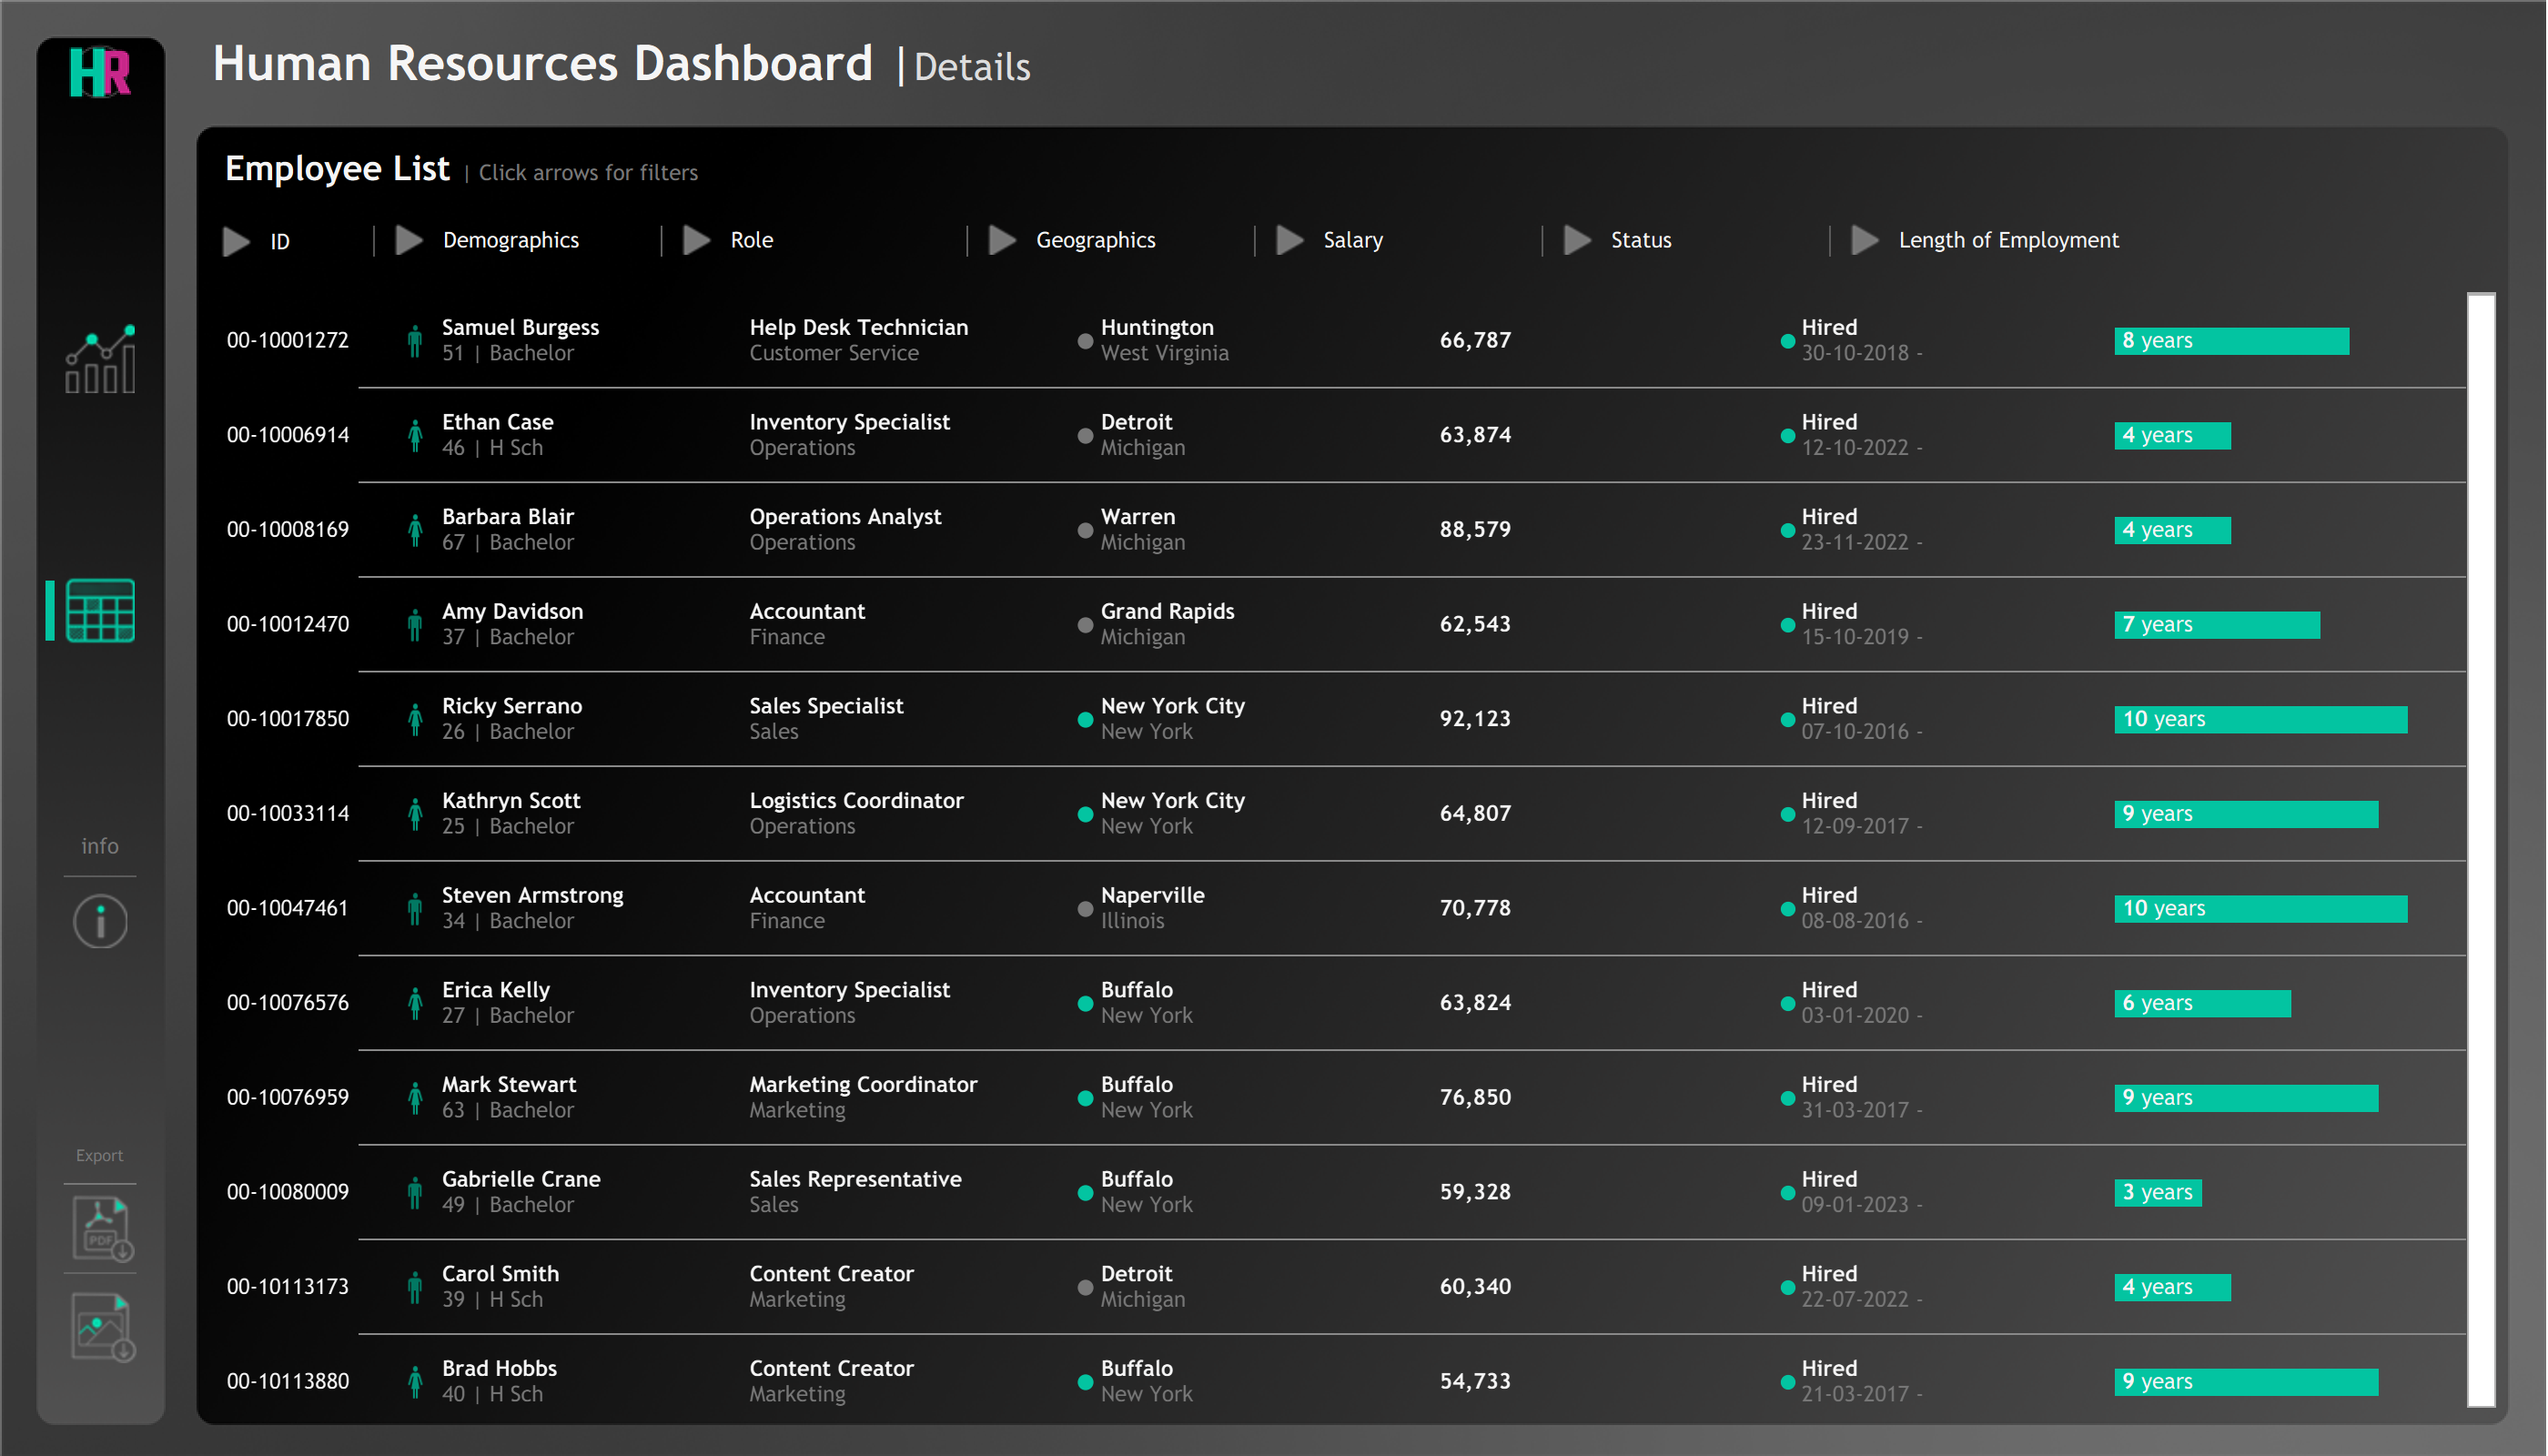

This screenshot's page, from the dashboard's own definition file:
{"tool":"tableau","page":{"name":"HR | Details","canvas":[1400,800],"ordinal":0},"visuals":[{"type":"image","param":"Image/background dashbaord details.png","box":[0,0,1400,800]},{"type":"text","box":[110,0,673,70]},{"type":"blank","box":[783,0,597,70]},{"type":"text","box":[92,13,1298,218]},{"type":"image","param":"Image/Logo.png","box":[20,20,70,38]},{"type":"blank","box":[20,58,70,110]},{"type":"text","box":[117,77,1256,37]},{"type":"dashboard-object","box":[117,114,25,37]},{"type":"text","box":[142,114,57,37]},{"type":"blank","box":[199,114,13,228]},{"type":"dashboard-object","box":[212,114,25,36]},{"type":"text","box":[237,114,120,36]},{"type":"blank","box":[357,114,13,228]},{"type":"dashboard-object","box":[370,114,25,36]},{"type":"text","box":[395,114,126,36]},{"type":"blank","box":[525,114,13,228]},{"type":"dashboard-object","box":[538,114,25,36]},{"type":"text","box":[563,114,120,36]},{"type":"blank","box":[683,114,13,228]},{"type":"dashboard-object","box":[696,114,25,36]},{"type":"text","box":[720.9,114,120,36]},{"type":"blank","box":[841,114,13,228]},{"type":"dashboard-object","box":[853.9,114,25,36]},{"type":"text","box":[878.9,114,120,36]},{"type":"blank","box":[998.9,114,13,228]},{"type":"dashboard-object","box":[1011.9,114,25,36]},{"type":"text","box":[1036.9,114,336.1,36]},{"type":"filter","title":"Details","param":"[federated.1ru0z8r0nqcx4818v7od20hwav44].[none:Calculation_0846406147260418:nk]","box":[212,150,145,48]},{"type":"filter","title":"Details","param":"[federated.1ru0z8r0nqcx4818v7od20hwav44].[none:Job Title:nk]","box":[370,150,155,48]},{"type":"filter","title":"Details","param":"[federated.1ru0z8r0nqcx4818v7od20hwav44].[none:Calculation_1481096908328965:nk]","box":[538,150,145,49]},{"type":"filter","title":"Details","param":"[federated.1ru0z8r0nqcx4818v7od20hwav44].[sum:Salary:qk]","box":[696,150,145,65]},{"type":"filter","title":"Details","param":"[federated.1ru0z8r0nqcx4818v7od20hwav44].[none:Calculation_0787306388230144:nk]","box":[853.9,150,145,48]},{"type":"filter","title":"Details","param":"[federated.1ru0z8r0nqcx4818v7od20hwav44].[sum:Calculation_1018479850840064:qk]","box":[1011.9,150,361.1,47]},{"type":"filter","title":"Details","param":"[federated.1ru0z8r0nqcx4818v7od20hwav44].[none:Employee_ID:nk]","box":[117,151,82,48]},{"type":"dashboard-object","box":[30,178,50,38]},{"type":"filter","title":"Details","param":"[federated.1ru0z8r0nqcx4818v7od20hwav44].[none:Gender:nk]","box":[212,198,145,48]},{"type":"filter","title":"Details","param":"[federated.1ru0z8r0nqcx4818v7od20hwav44].[none:Department:nk]","box":[370,198,155,48]},{"type":"filter","title":"Details","param":"[federated.1ru0z8r0nqcx4818v7od20hwav44].[yr:Hiredate:ok]","box":[853.9,198,145,48]},{"type":"filter","title":"Details","param":"[federated.1ru0z8r0nqcx4818v7od20hwav44].[none:State:nk]","box":[538,199,145,48]},{"type":"blank","box":[30,216,50,100]},{"type":"filter","title":"Details","param":"[federated.1ru0z8r0nqcx4818v7od20hwav44].[none:Calculation_1179556890259457:nk]","box":[212,246,145,48]},{"type":"filter","title":"Details","param":"[federated.1ru0z8r0nqcx4818v7od20hwav44].[yr:Termdate:ok]","box":[853.9,246,145,48]},{"type":"filter","title":"Details","param":"[federated.1ru0z8r0nqcx4818v7od20hwav44].[none:City:nk]","box":[538,247,145,48]},{"type":"filter","title":"Details","param":"[federated.1ru0z8r0nqcx4818v7od20hwav44].[none:Education Level:nk]","box":[212,294,145,48]},{"type":"dashboard-object","box":[30,316,50,38]},{"type":"blank","box":[25,319,5,33]},{"type":"worksheet","title":"Details","mark":"Shape","rows":["Employee_ID"],"cols":["Calculation_0846406146097153","Calculation_0846406146097153","Calculation_0846406146097153","Calculation_0846406146097153","Calculation_0846406146097153","Calculation_1018479850840064"],"box":[117,352,1256,421]},{"type":"blank","box":[30,354,50,100]},{"type":"text","box":[30,454,50,22]},{"type":"blank","box":[30,476,50,11]},{"type":"dashboard-object","box":[30,487,50,38]},{"type":"blank","box":[30,525,50,100]},{"type":"text","box":[30,625,50,20]},{"type":"blank","box":[30,645,50,11]},{"type":"dashboard-object","box":[30,656,50,38]},{"type":"blank","box":[30,694,50,11]},{"type":"dashboard-object","box":[30,705,50,48]}]}

Visuals, with their boxes in screenshot pixels (x1, y1, x2, y2), scaled from the page's 1400x800 canvas onto the 2548x1456 screenshot:
image: 0:0:2547:1455
text: 200:0:1425:127
blank: 1425:0:2512:127
text: 167:24:2530:420
image: 36:36:164:106
blank: 36:106:164:306
text: 213:140:2499:207
dashboard-object: 213:207:258:275
text: 258:207:362:275
blank: 362:207:386:622
dashboard-object: 386:207:431:273
text: 431:207:650:273
blank: 650:207:673:622
dashboard-object: 673:207:719:273
text: 719:207:948:273
blank: 955:207:979:622
dashboard-object: 979:207:1025:273
text: 1025:207:1243:273
blank: 1243:207:1267:622
dashboard-object: 1267:207:1312:273
text: 1312:207:1531:273
blank: 1531:207:1554:622
dashboard-object: 1554:207:1600:273
text: 1600:207:1818:273
blank: 1818:207:1842:622
dashboard-object: 1842:207:1887:273
text: 1887:207:2499:273
"Details" filter: 386:273:650:360
"Details" filter: 673:273:955:360
"Details" filter: 979:273:1243:362
"Details" filter: 1267:273:1531:391
"Details" filter: 1554:273:1818:360
"Details" filter: 1842:273:2499:359
"Details" filter: 213:275:362:362
dashboard-object: 55:324:146:393
"Details" filter: 386:360:650:448
"Details" filter: 673:360:955:448
"Details" filter: 1554:360:1818:448
"Details" filter: 979:362:1243:450
blank: 55:393:146:575
"Details" filter: 386:448:650:535
"Details" filter: 1554:448:1818:535
"Details" filter: 979:450:1243:537
"Details" filter: 386:535:650:622
dashboard-object: 55:575:146:644
blank: 45:581:55:641
"Details" worksheet (Shape marks): 213:641:2499:1407
blank: 55:644:146:826
text: 55:826:146:866
blank: 55:866:146:886
dashboard-object: 55:886:146:955
blank: 55:955:146:1137
text: 55:1137:146:1174
blank: 55:1174:146:1194
dashboard-object: 55:1194:146:1263
blank: 55:1263:146:1283
dashboard-object: 55:1283:146:1370
